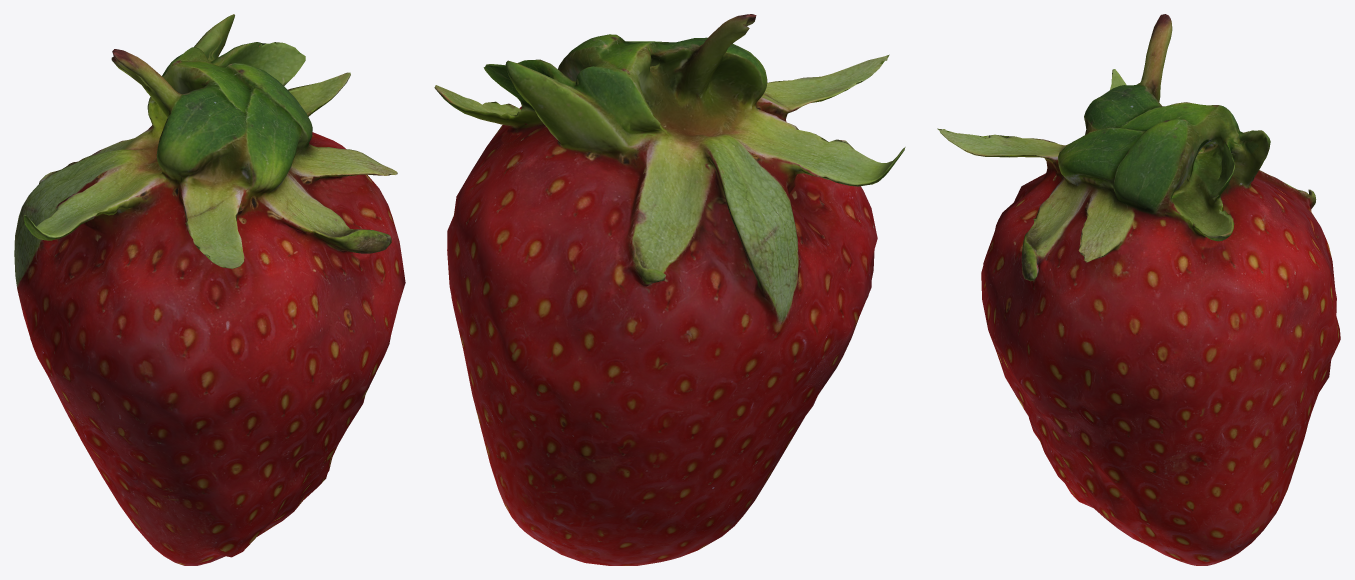
The model's file is sweet_strawberry.glb.
3 views of the same model, side by side, from view 1: azimuth 30°, elevation 25°; view 2: azimuth 150°, elevation 25°; view 3: azimuth 270°, elevation 25° (orthographic). The views are drawn at different scales.
Visible parts, largest first — view 1: Object_3; view 2: Object_3; view 3: Object_3.
Part boxes in pixels (left/top/right/bottom): Object_3: left=14, top=14, right=405, bottom=565; Object_3: left=434, top=14, right=905, bottom=565; Object_3: left=937, top=14, right=1340, bottom=565.
Bounding box in the file's own units: 1.52 × 2.01 × 1.51.
1 material, 1 textured.
